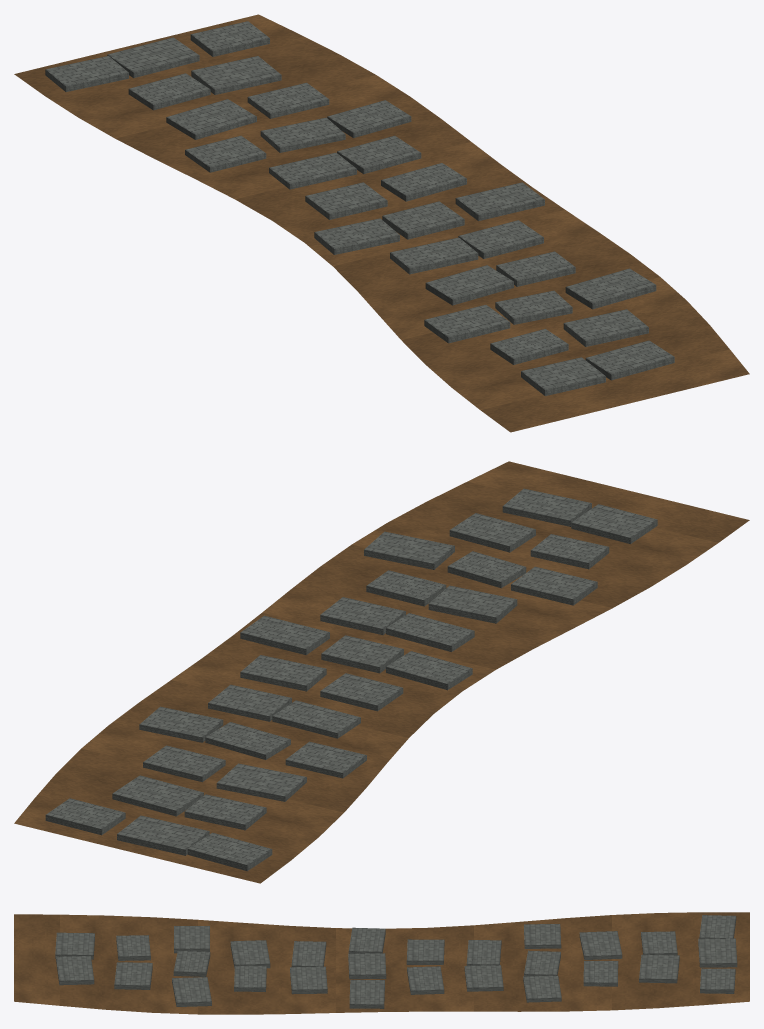
The model's file is road_v3.obj.
3 renders of one model, top to bottom at view 1: azimuth 30°, elevation 25°; view 2: azimuth 150°, elevation 25°; view 3: azimuth 270°, elevation 25°, orthographic. The views are drawn at different scales.
Parts seen in each view (by area): view 1: StoryWorld_RoadSegment_v3; view 2: StoryWorld_RoadSegment_v3; view 3: StoryWorld_RoadSegment_v3.
Part boxes in pixels (box(x1,y1,x2,y2)): StoryWorld_RoadSegment_v3: box(14, 14, 749, 432); StoryWorld_RoadSegment_v3: box(14, 461, 749, 883); StoryWorld_RoadSegment_v3: box(14, 912, 749, 1014).
Bounding box in the file's own units: 5.24 × 0.125 × 16.
3 materials, 3 textured.
